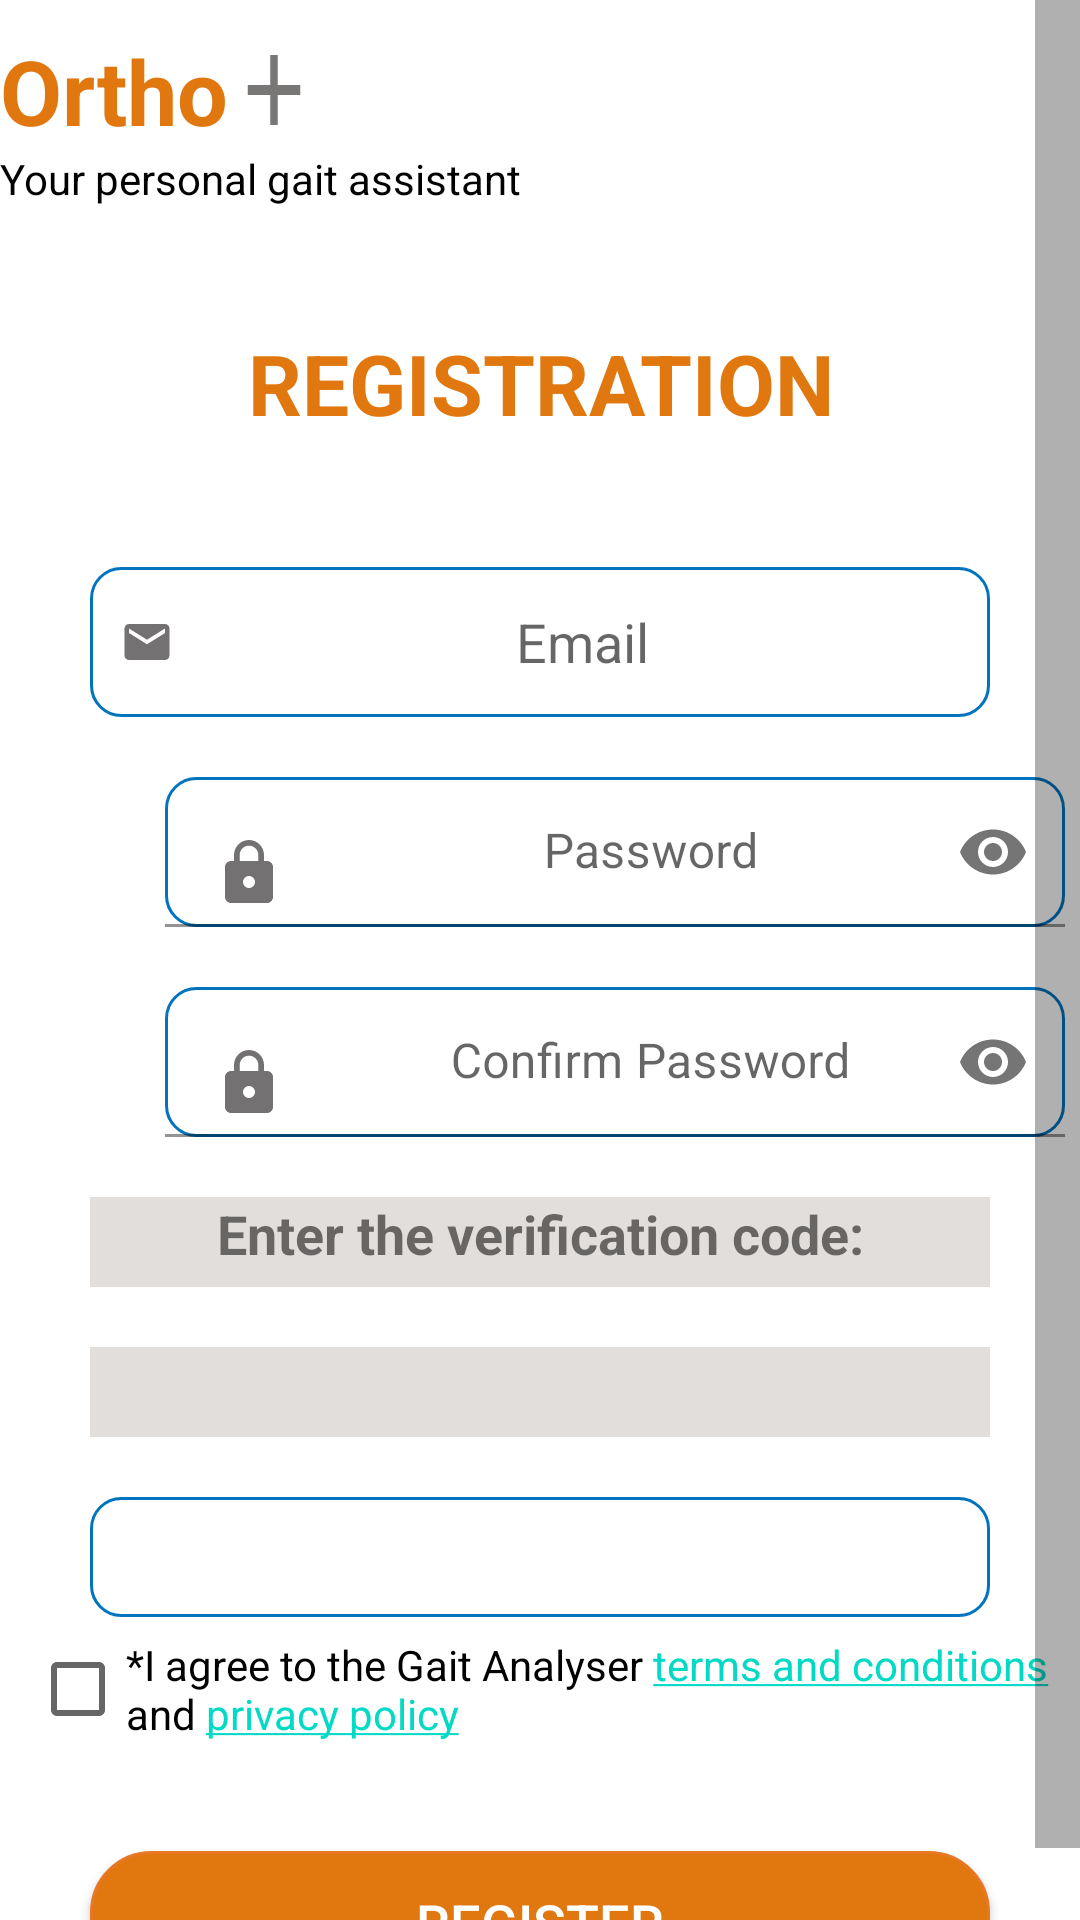

Named icons in this screenshot (1080x1920) and their bounding boxes, (x1, y1, x2, y2):
add: (247, 55, 301, 125)
